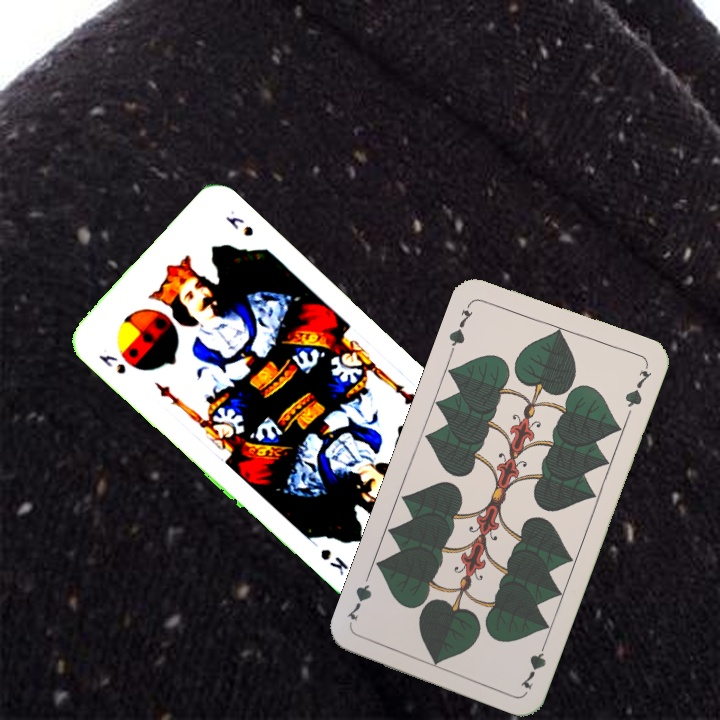G7: (516, 635, 550, 692), (444, 298, 476, 355)
SK: (94, 350, 129, 377)
